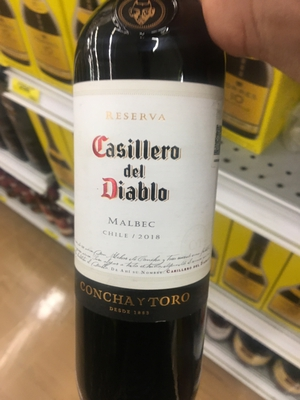casillero del diablo malbec: (66, 28, 229, 385)
